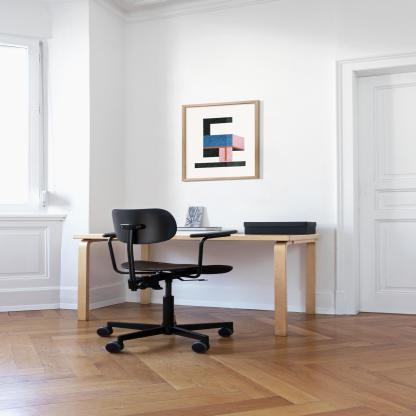chair: (94, 203, 242, 357)
door: (349, 74, 416, 314)
table: (78, 229, 346, 336)
